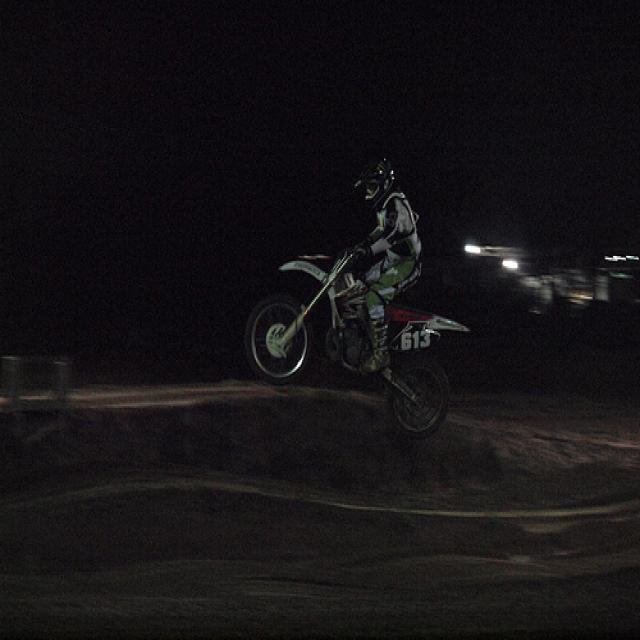Motorbike: (150, 224, 545, 458)
